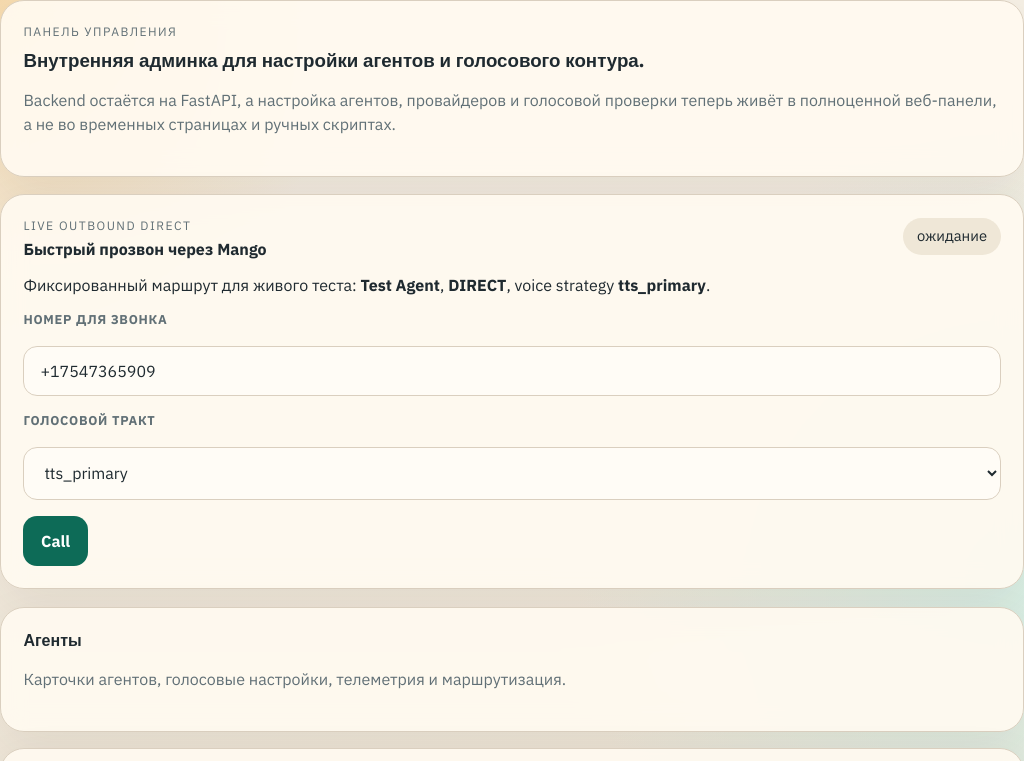
Test: dashboard dial panel smoke › allows switching the live direct voice strategy override
The image size is (1024, 761).
Expected: the heading "Быстрый прозвон через Mango" is shown, left=23, top=239, right=267, bottom=259
Select "gemini_primary" in the dropdown labelled "Голосовой тракт" at (512, 473), box left=23, top=447, right=1001, bottom=500
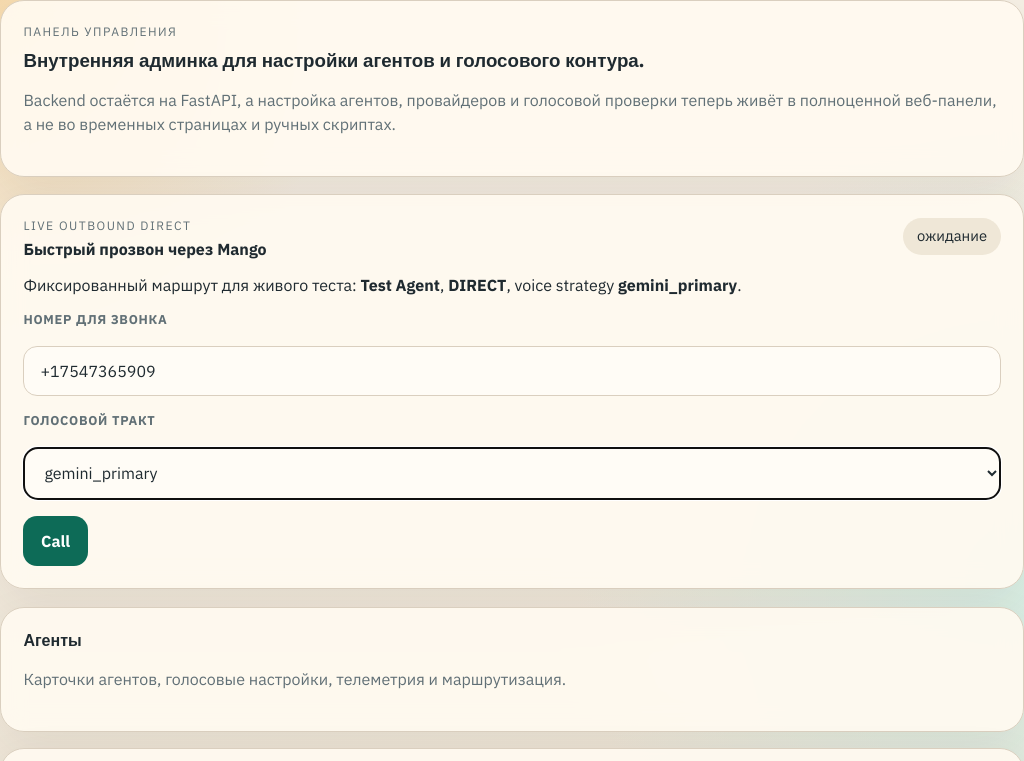
Click the button "Call".
click(56, 541)  # box left=23, top=516, right=88, bottom=566
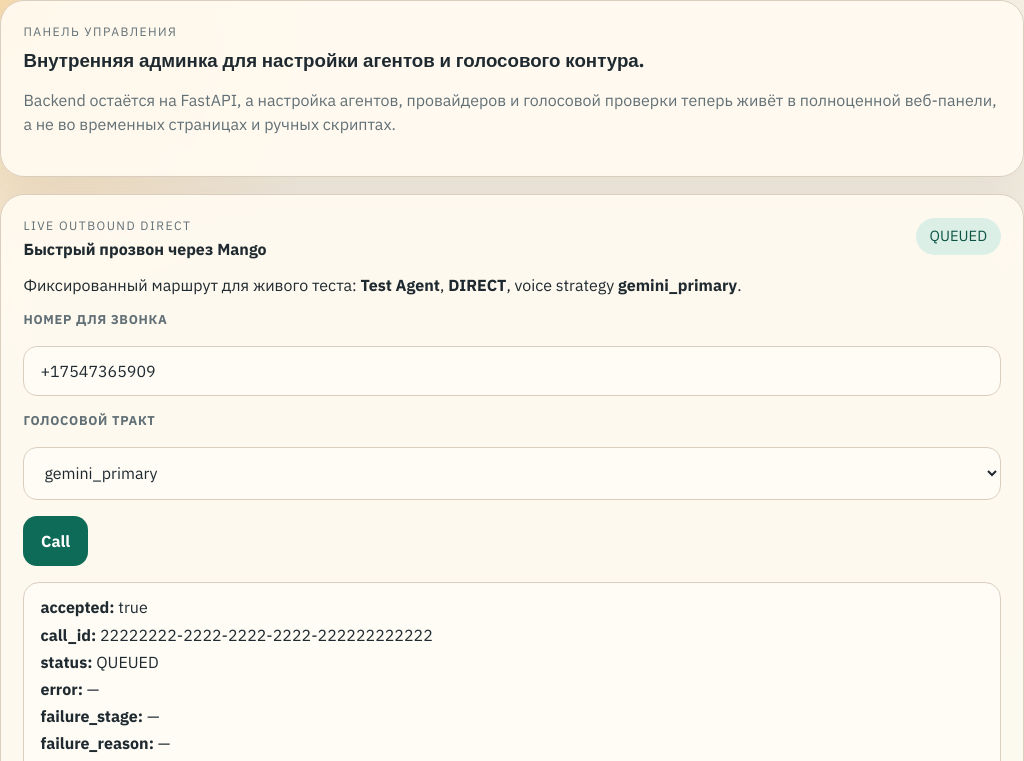
Expected: the text "gemini_primary" is shown, left=618, top=275, right=737, bottom=295
Expected: the text "call_id: 22222222-2222-2222-2222-222222222222" is shown, left=40, top=625, right=433, bottom=645
